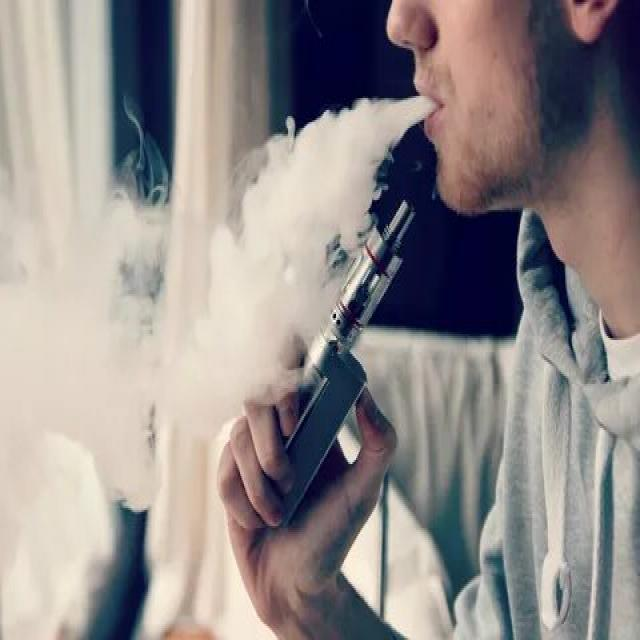cigarette: (251, 192, 420, 534)
